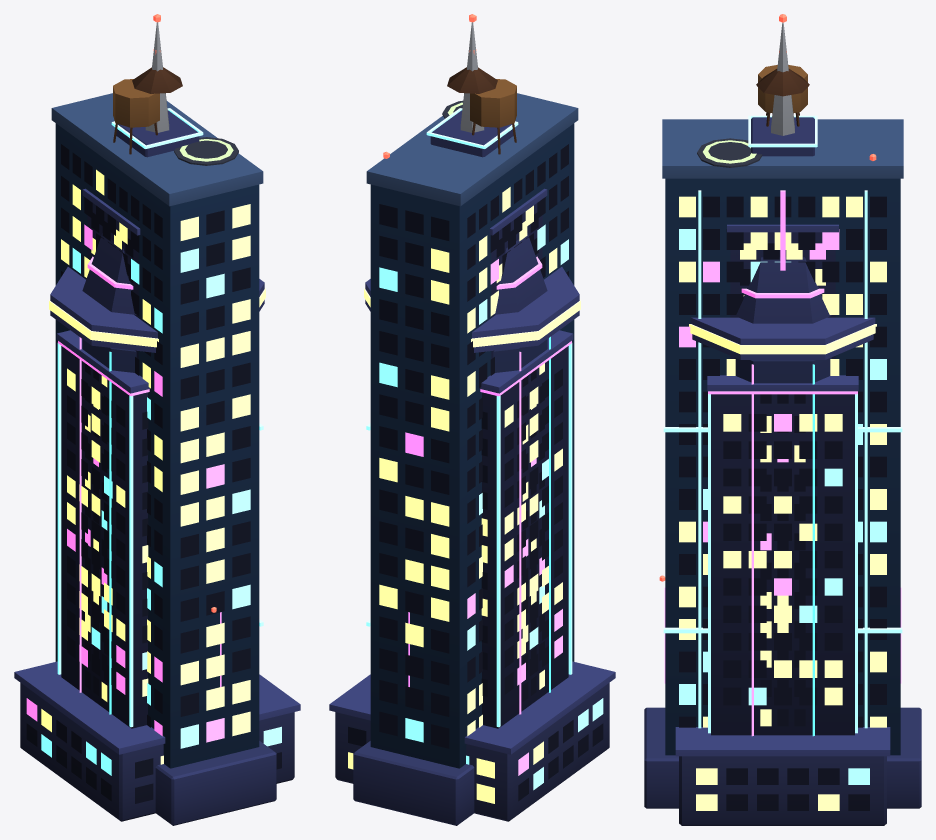
Rendered from scenery-metro.glb.
3 views of the same model, side by side, from view 1: azimuth 30°, elevation 25°; view 2: azimuth 150°, elevation 25°; view 3: azimuth 270°, elevation 25° (orthographic). The views are drawn at different scales.
Visible parts, largest first — view 1: prop-skyscraper_b, prop-skyscraper_a, prop-skyscraper_c; view 2: prop-skyscraper_b, prop-skyscraper_a, prop-skyscraper_c; view 3: prop-skyscraper_b, prop-skyscraper_a, prop-skyscraper_c.
Boxes of the visible parts, box(x1,y1,x2,y2) form: prop-skyscraper_b: box(51, 67, 276, 825); prop-skyscraper_a: box(14, 14, 300, 821); prop-skyscraper_c: box(49, 49, 265, 714); prop-skyscraper_b: box(353, 67, 578, 825); prop-skyscraper_a: box(329, 14, 615, 821); prop-skyscraper_c: box(364, 49, 580, 714); prop-skyscraper_b: box(644, 65, 921, 808); prop-skyscraper_a: box(675, 14, 890, 825); prop-skyscraper_c: box(689, 51, 876, 736).
Size of the model in its own units: 15.5 by 61.45 by 20.
